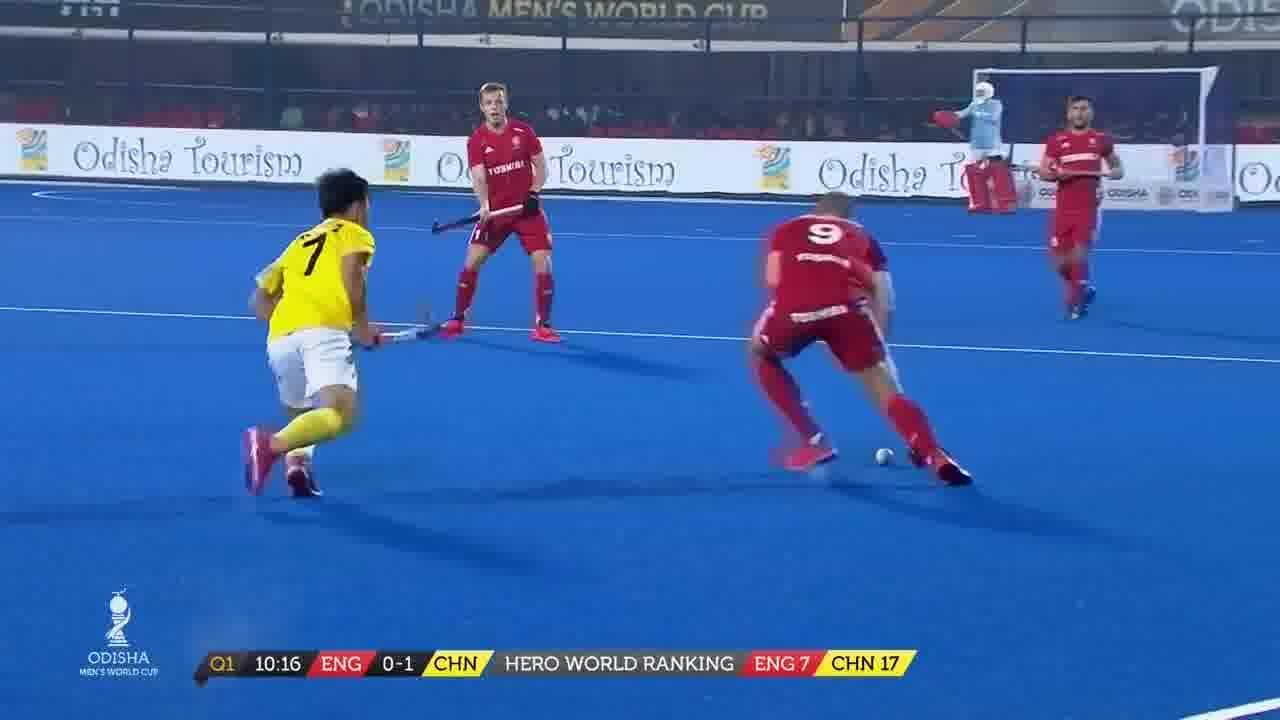ball: (878, 440, 896, 466)
